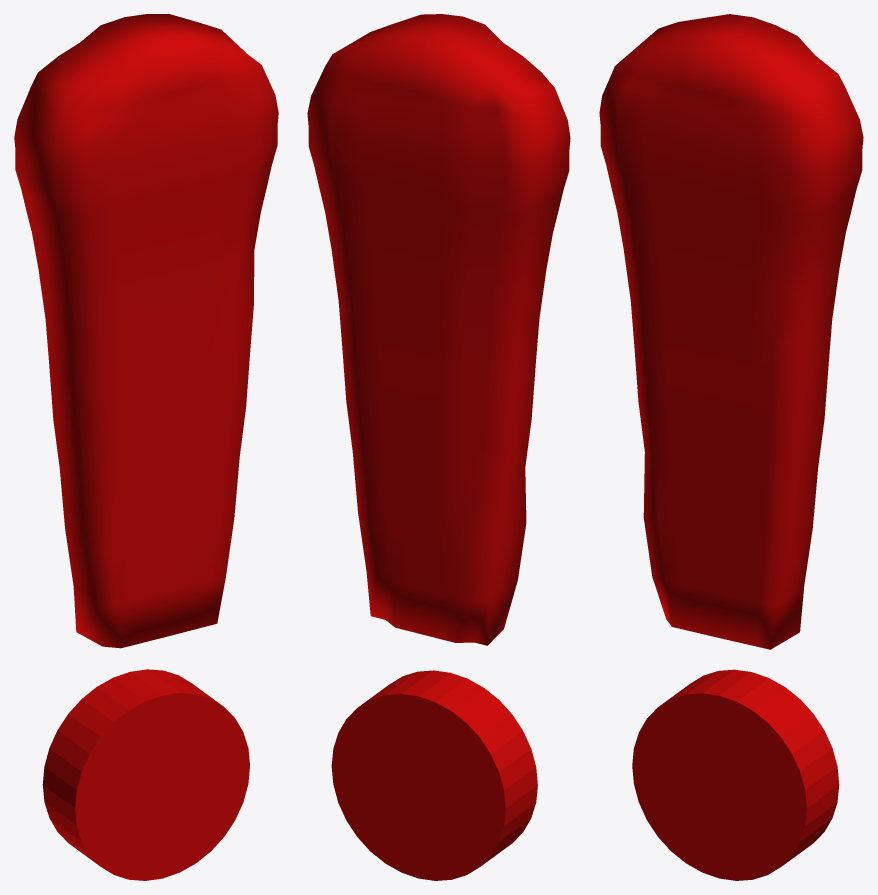
Rendered from exclamation.obj.
3 renders of one model, left to right at view 1: azimuth 30°, elevation 25°; view 2: azimuth 150°, elevation 25°; view 3: azimuth 330°, elevation 25°, orthographic.
Parts seen in each view (by area): view 1: Exclamation_top_Cube, Cylinder_Cylinder.002; view 2: Exclamation_top_Cube, Cylinder_Cylinder.002; view 3: Exclamation_top_Cube, Cylinder_Cylinder.002.
Boxes of the visible parts, box(x1,y1,x2,y2) form: Exclamation_top_Cube: box(14, 14, 278, 648); Cylinder_Cylinder.002: box(42, 669, 249, 880); Exclamation_top_Cube: box(307, 14, 570, 645); Cylinder_Cylinder.002: box(331, 670, 537, 880); Exclamation_top_Cube: box(599, 14, 863, 649); Cylinder_Cylinder.002: box(632, 669, 839, 880).
Size of the model in its own units: 0.1966 by 0.7021 by 0.0802.
